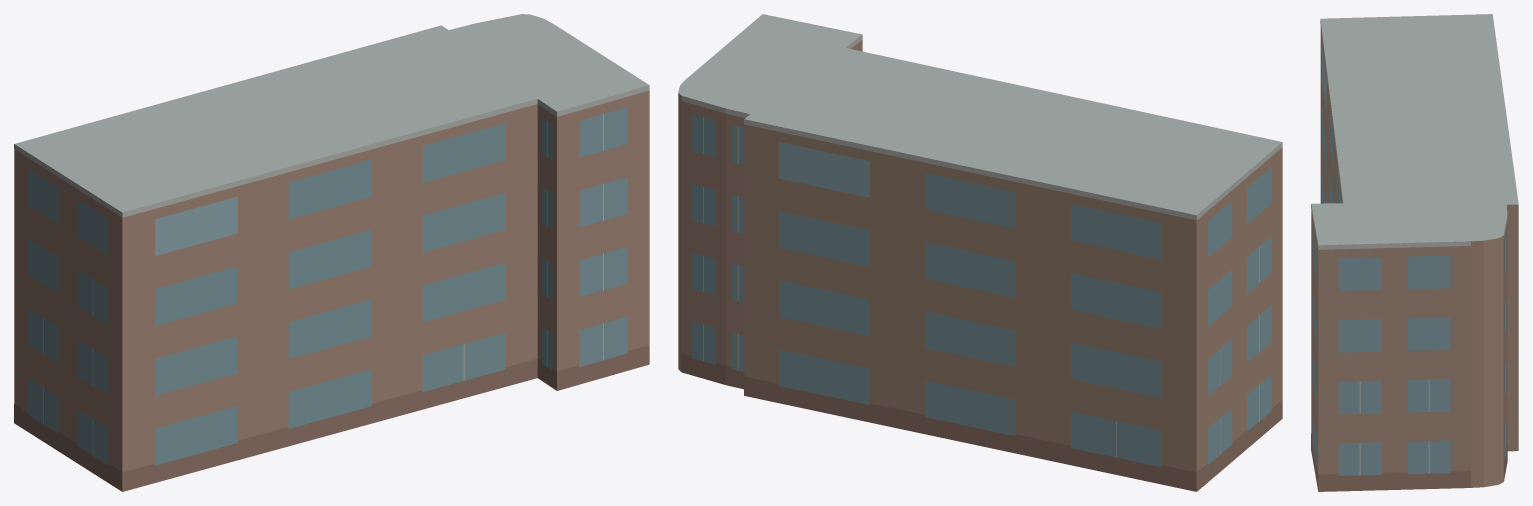
The model's file is survey-upis-32701675.glb.
3 renders of one model, left to right at view 1: azimuth 30°, elevation 25°; view 2: azimuth 150°, elevation 25°; view 3: azimuth 270°, elevation 25°, orthographic. The views are drawn at different scales.
Parts seen in each view (by area): view 1: survey-upis-32701675.tmp; view 2: survey-upis-32701675.tmp; view 3: survey-upis-32701675.tmp.
Part boxes in pixels (x1=…): survey-upis-32701675.tmp: x1=14, y1=14, x2=649, y2=491; survey-upis-32701675.tmp: x1=678, y1=14, x2=1282, y2=491; survey-upis-32701675.tmp: x1=1311, y1=14, x2=1518, y2=491.
Size of the model in its own units: 26.57 by 13.2 by 10.08.
